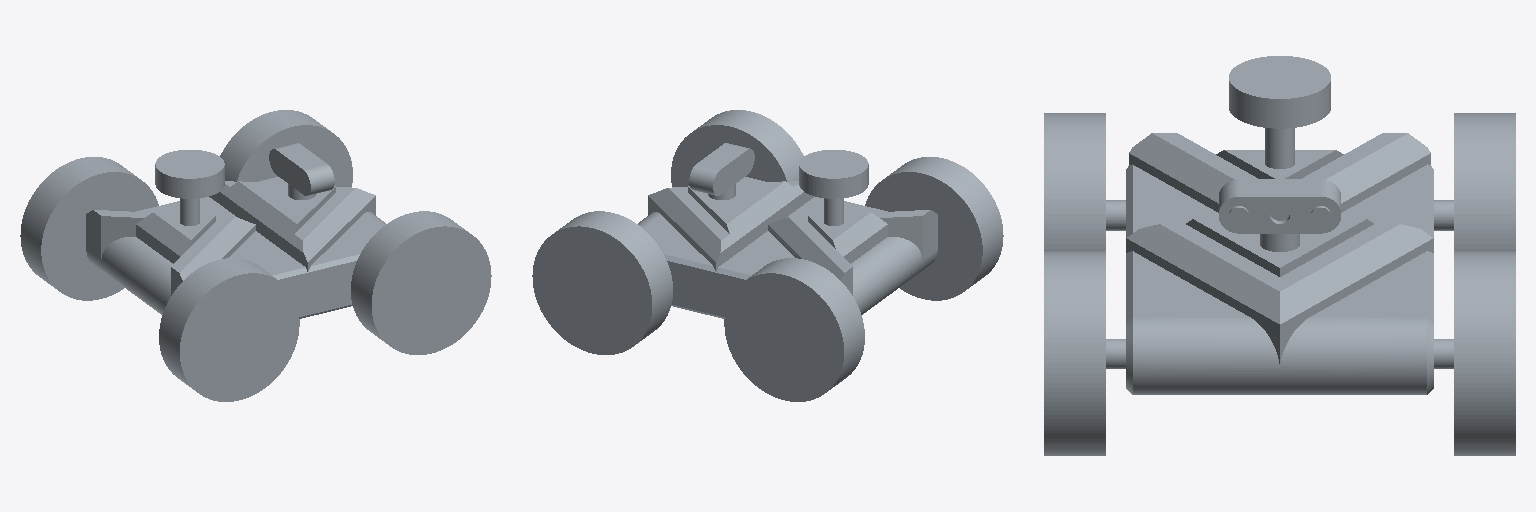
URDF robot description (Robot):
<?xml version="1.0" ?>
<robot name="Robot">
  <!--Generated by RobotCAD, a ROS Workbench for FreeCAD (https://github.com/drfenixion/freecad.robotcad)-->
  <link name="l_f_wheel_r001">
    <visual>
      <!--f_wheel_r001/f_wheel_r001.-->
      <origin rpy="1.5707963267948968 0 0" xyz="-0.04 0.025 0.0425"/>
      <geometry>
        <mesh filename="package://mobile_robot/meshes/f_wheel_r.dae"/>
      </geometry>
    </visual>
    <collision>
      <!--col__l_f_wheel_r001__col_f_wheel_r__BoundCylinder/col_f_wheel_r__BoundCylinder.-->
      <origin rpy="3.141592653589793 0 0" xyz="0.0 0.0 -0.0075"/>
      <geometry>
        <cylinder length="0.015" radius="0.025"/>
      </geometry>
    </collision>
    <inertial>
      <mass value="0.0312195769950486"/>
      <origin rpy="1.5707963267948968 0 0" xyz="0.0 0.0 -0.0075"/>
      <inertia ixx="5.4634270341e-06" ixy="0.0" ixz="-0.0" iyy="9.756118871e-06" iyz="0.0" izz="5.4634270341e-06"/>
    </inertial>
  </link>
  <link name="l_f_wheel_l001">
    <visual>
      <!--f_wheel_l001/f_wheel_l001.-->
      <origin rpy="1.5707963267948968 0 0" xyz="-0.04 0.025 -0.0425"/>
      <geometry>
        <mesh filename="package://mobile_robot/meshes/f_wheel_l.dae"/>
      </geometry>
    </visual>
    <collision>
      <!--col__l_f_wheel_l001__col_f_wheel_l__BoundCylinder/col_f_wheel_l__BoundCylinder.-->
      <origin rpy="3.141592653589793 0 0" xyz="0.0 0.0 0.0075"/>
      <geometry>
        <cylinder length="0.015" radius="0.025"/>
      </geometry>
    </collision>
    <inertial>
      <mass value="0.0312195769950486"/>
      <origin rpy="1.5707963267948968 0 0" xyz="0.0 0.0 0.0075"/>
      <inertia ixx="5.4634270341e-06" ixy="-0.0" ixz="-0.0" iyy="9.756118871e-06" iyz="0.0" izz="5.4634270341e-06"/>
    </inertial>
  </link>
  <link name="l_b_wheel_r001">
    <visual>
      <!--b_wheel_r001/b_wheel_r001.-->
      <origin rpy="1.5707963267948968 0 0" xyz="0.04 0.025 0.0425"/>
      <geometry>
        <mesh filename="package://mobile_robot/meshes/b_wheel_r.dae"/>
      </geometry>
    </visual>
    <collision>
      <!--col__l_b_wheel_r001__col_b_wheel_r__BoundCylinder/col_b_wheel_r__BoundCylinder.-->
      <origin rpy="3.141592653589793 0 0" xyz="0.0 0.0 -0.0075"/>
      <geometry>
        <cylinder length="0.015" radius="0.025"/>
      </geometry>
    </collision>
    <inertial>
      <mass value="0.0312195769950486"/>
      <origin rpy="1.5707963267948968 0 0" xyz="0.0 0.0 -0.0075"/>
      <inertia ixx="5.4634270341e-06" ixy="-0.0" ixz="0.0" iyy="9.756118871e-06" iyz="0.0" izz="5.4634270341e-06"/>
    </inertial>
  </link>
  <link name="l_b_wheel_l001">
    <visual>
      <!--b_wheel_l001/b_wheel_l001.-->
      <origin rpy="1.5707963267948968 0 0" xyz="0.04 0.025 -0.0425"/>
      <geometry>
        <mesh filename="package://mobile_robot/meshes/b_wheel_l.dae"/>
      </geometry>
    </visual>
    <collision>
      <!--col__l_b_wheel_l001__col_b_wheel_l__BoundCylinder/col_b_wheel_l__BoundCylinder.-->
      <origin rpy="3.141592653589793 0 0" xyz="0.0 0.0 0.0075"/>
      <geometry>
        <cylinder length="0.015" radius="0.025"/>
      </geometry>
    </collision>
    <inertial>
      <mass value="0.0312195769950486"/>
      <origin rpy="1.5707963267948968 0 0" xyz="0.0 0.0 0.0075"/>
      <inertia ixx="5.4634270341e-06" ixy="0.0" ixz="0.0" iyy="9.756118871e-06" iyz="0.0" izz="5.4634270341e-06"/>
    </inertial>
  </link>
  <link name="l_camera_link001">
    <visual>
      <!--camera_link001/camera_link001.-->
      <origin rpy="0 0 0" xyz="-0.0191667 0.0 -0.05"/>
      <geometry>
        <mesh filename="package://mobile_robot/meshes/camera_link.dae"/>
      </geometry>
    </visual>
    <collision>
      <!--col__l_camera_link001__col_camera_link__BoundBox/col_camera_link__BoundBox.-->
      <origin rpy="0 0 0" xyz="0.0005 0.0 0.005"/>
      <geometry>
        <box size="0.011000000000000001 0.0299270887409805 0.01"/>
      </geometry>
    </collision>
    <inertial>
      <mass value="0.0029525220532013"/>
      <origin rpy="0 0 0" xyz="2.11477e-05 0.0 0.005"/>
      <inertia ixx="2.214890679e-07" ixy="0.0" ixz="-0.0" iyy="4.80567849e-08" iyz="0.0" izz="2.238049339e-07"/>
    </inertial>
  </link>
  <link name="l_lidar_link001">
    <visual>
      <!--lidar_link001/lidar_link001.-->
      <origin rpy="0 0 0" xyz="0.0275 0.0 -0.06"/>
      <geometry>
        <mesh filename="package://mobile_robot/meshes/lidar_link.dae"/>
      </geometry>
    </visual>
    <collision>
      <!--col__l_lidar_link001__col_lidar_link__BoundCylinder/col_lidar_link__BoundCylinder.-->
      <origin rpy="0 0 0" xyz="0.0 0.0 0.004"/>
      <geometry>
        <cylinder length="0.008" radius="0.0125"/>
      </geometry>
    </collision>
    <inertial>
      <mass value="0.0041626102660065"/>
      <origin rpy="0 0 0" xyz="0.0 0.0 0.004"/>
      <inertia ixx="1.848036116e-07" ixy="-0.0" ixz="0.0" iyy="1.848036116e-07" iyz="-0.0" izz="3.25204987e-07"/>
    </inertial>
  </link>
  <link name="l_base_link001">
    <visual>
      <!--base_link001/base_link001.-->
      <origin rpy="0 0 0" xyz="0.497 0.0 0.0"/>
      <geometry>
        <mesh filename="package://mobile_robot/meshes/base_link.dae"/>
      </geometry>
    </visual>
    <collision>
      <!--col__l_base_link001__col_base_link__BoundBox/col_base_link__BoundBox.-->
      <origin rpy="0 0 0" xyz="0.497 0.0 0.03"/>
      <geometry>
        <box size="0.1 0.075 0.03"/>
      </geometry>
    </collision>
    <inertial>
      <mass value="0.1799039371907626"/>
      <origin rpy="0 0 0" xyz="0.496311 0.0 0.0271666"/>
      <inertia ixx="8.78567682626e-05" ixy="0.0" ixz="1.4402302824e-06" iyy="0.000146267630227" iyz="0.0" izz="0.0002143073776727"/>
    </inertial>
  </link>
  <joint name="l_base_link001__to__l_b_wheel_l003" type="continuous">
    <parent link="l_base_link001"/>
    <child link="l_b_wheel_l001"/>
    <origin rpy="-1.5707963267948963 0 0" xyz="0.537 0.0425 0.025"/>
    <axis xyz="0 0 1"/>
    <limit effort="10.0" velocity="20.0"/>
  </joint>
  <joint name="l_base_link001__to__l_b_wheel_r001" type="continuous">
    <parent link="l_base_link001"/>
    <child link="l_b_wheel_r001"/>
    <origin rpy="-1.5707963267948963 0 0" xyz="0.537 -0.0425 0.025"/>
    <axis xyz="0 0 1"/>
    <limit effort="10.0" velocity="20.0"/>
  </joint>
  <joint name="l_base_link001__to__l_f_wheel_l001" type="continuous">
    <parent link="l_base_link001"/>
    <child link="l_f_wheel_l001"/>
    <origin rpy="-1.5707963267948963 0 0" xyz="0.457 0.0425 0.025"/>
    <axis xyz="0 0 1"/>
    <limit effort="0.0" velocity="0.0"/>
  </joint>
  <joint name="l_base_link001__to__l_f_wheel_r001" type="continuous">
    <parent link="l_base_link001"/>
    <child link="l_f_wheel_r001"/>
    <origin rpy="-1.5707963267948963 0 0" xyz="0.457 -0.0425 0.025"/>
    <axis xyz="0 0 1"/>
    <limit effort="10.0" velocity="20.0"/>
  </joint>
  <joint name="l_base_link001__to__l_lidar_link001" type="fixed">
    <parent link="l_base_link001"/>
    <child link="l_lidar_link001"/>
    <origin rpy="0 0 0" xyz="0.4695 0.0 0.06"/>
  </joint>
  <joint name="l_base_link001__to__l_camera_link002" type="fixed">
    <parent link="l_base_link001"/>
    <child link="l_camera_link001"/>
    <origin rpy="0 0 0" xyz="0.516167 0.0 0.05"/>
  </joint>
  <gazebo>
  <plugin filename="gz-sim-diff-drive-system" name="gz::sim::systems::DiffDrive">
    <!-- Имена левых колёс -->
    <left_joint>l_base_link001__to__l_b_wheel_l003</left_joint>
    <left_joint>l_base_link001__to__l_f_wheel_l001</left_joint>
    <!-- Имена правых колёс -->
    <right_joint>l_base_link001__to__l_b_wheel_r001</right_joint>
    <right_joint>l_base_link001__to__l_f_wheel_r001</right_joint>
    <!-- Геометрия робота -->
    <wheel_separation>0.1</wheel_separation>
    <wheel_radius>0.0250</wheel_radius>
    <!-- Топики ROS 2 -->
    <topic>/cmd_vel</topic>
    <odom_topic>/odom</odom_topic>
    <tf_topic>/tf</tf_topic>
    <frame_id>odom</frame_id>
    <child_frame_id>l_base_link001</child_frame_id>
  </plugin>
</gazebo>
</robot>

--- Render facts (derived) ---
3 views of the same robot in one strip: view 1: azimuth 30°, elevation 25°; view 2: azimuth 150°, elevation 25°; view 3: azimuth 270°, elevation 25° (orthographic).
Model Robot with 7 links and 6 joints (4 continuous, 2 fixed), rooted at l_base_link001, posed every joint at zero.
Links seen in each view (by area): view 1: l_base_link001, l_f_wheel_r001, l_b_wheel_r001, l_f_wheel_l001, l_b_wheel_l001, l_lidar_link001, l_camera_link001; view 2: l_base_link001, l_f_wheel_l001, l_b_wheel_l001, l_f_wheel_r001, l_b_wheel_r001, l_lidar_link001, l_camera_link001; view 3: l_base_link001, l_b_wheel_r001, l_b_wheel_l001, l_f_wheel_r001, l_f_wheel_l001, l_lidar_link001, l_camera_link001.
Boxes of the visible links, box(x1,y1,x2,y2) form: l_base_link001: box(86, 177, 385, 318); l_f_wheel_r001: box(159, 258, 299, 401); l_b_wheel_r001: box(351, 211, 491, 354); l_f_wheel_l001: box(20, 157, 158, 300); l_b_wheel_l001: box(220, 110, 352, 186); l_lidar_link001: box(155, 150, 224, 198); l_camera_link001: box(269, 143, 334, 195); l_base_link001: box(638, 177, 937, 318); l_f_wheel_l001: box(724, 258, 864, 401); l_b_wheel_l001: box(532, 211, 672, 354); l_f_wheel_r001: box(865, 157, 1003, 300); l_b_wheel_r001: box(671, 110, 803, 186); l_lidar_link001: box(799, 150, 868, 198); l_camera_link001: box(689, 143, 754, 195); l_base_link001: box(1106, 128, 1453, 394); l_b_wheel_r001: box(1044, 251, 1105, 455); l_b_wheel_l001: box(1454, 251, 1515, 455); l_f_wheel_r001: box(1044, 113, 1105, 250); l_f_wheel_l001: box(1454, 113, 1515, 250); l_lidar_link001: box(1229, 56, 1330, 128); l_camera_link001: box(1219, 179, 1340, 233).
Bounding box of the posed robot: 0.13 × 0.115 × 0.068 m (x, y, z).
Meshes: 7 distinct files referenced, 7 mesh visuals loaded (7 Collada DAE).
